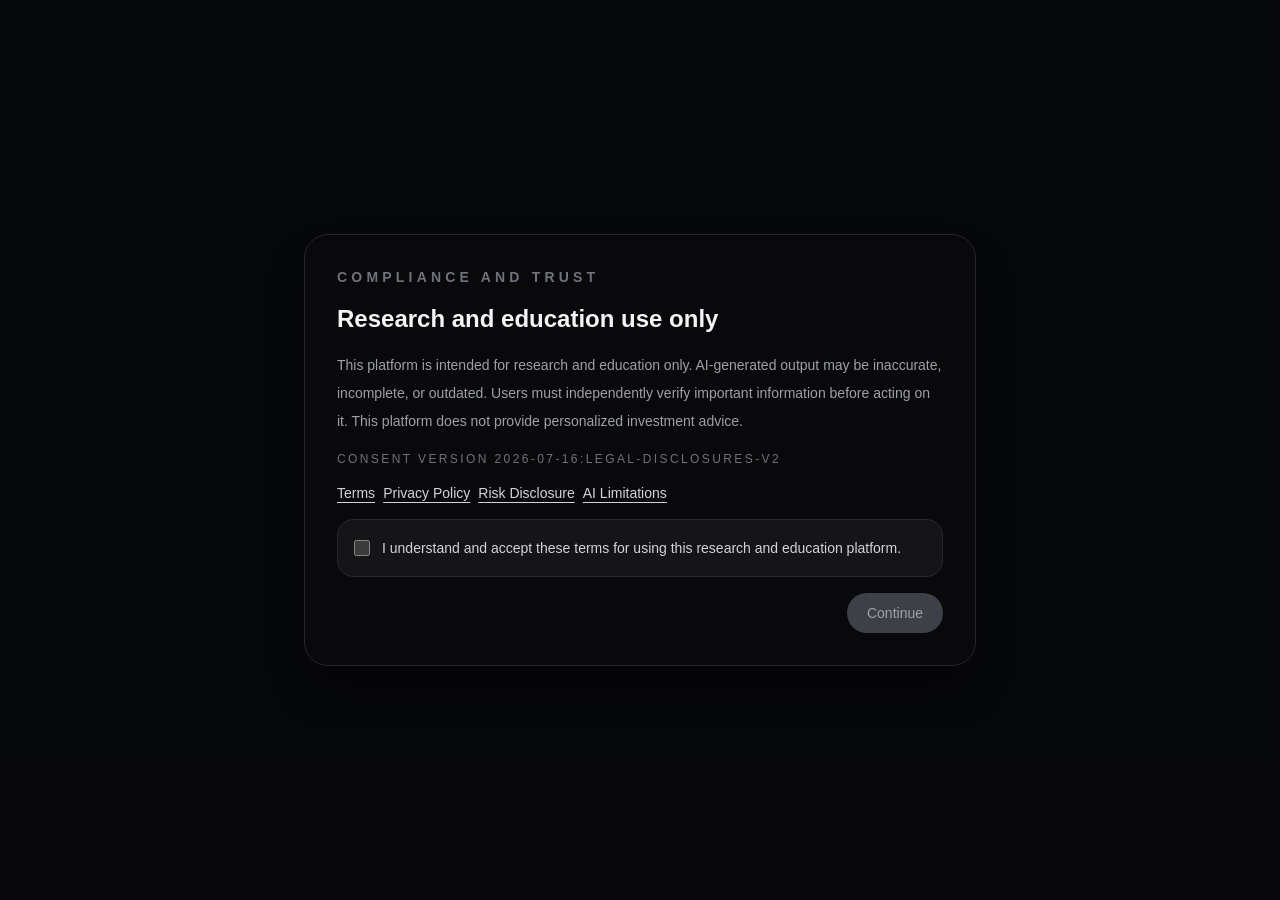
Test: Consent modal › requires checkbox acceptance before continuing
Expected: the button "Continue" is disabled, x1=847 y1=593 x2=943 y2=633
Click the checkbox at (362, 548), box x1=354 y1=540 x2=370 y2=556
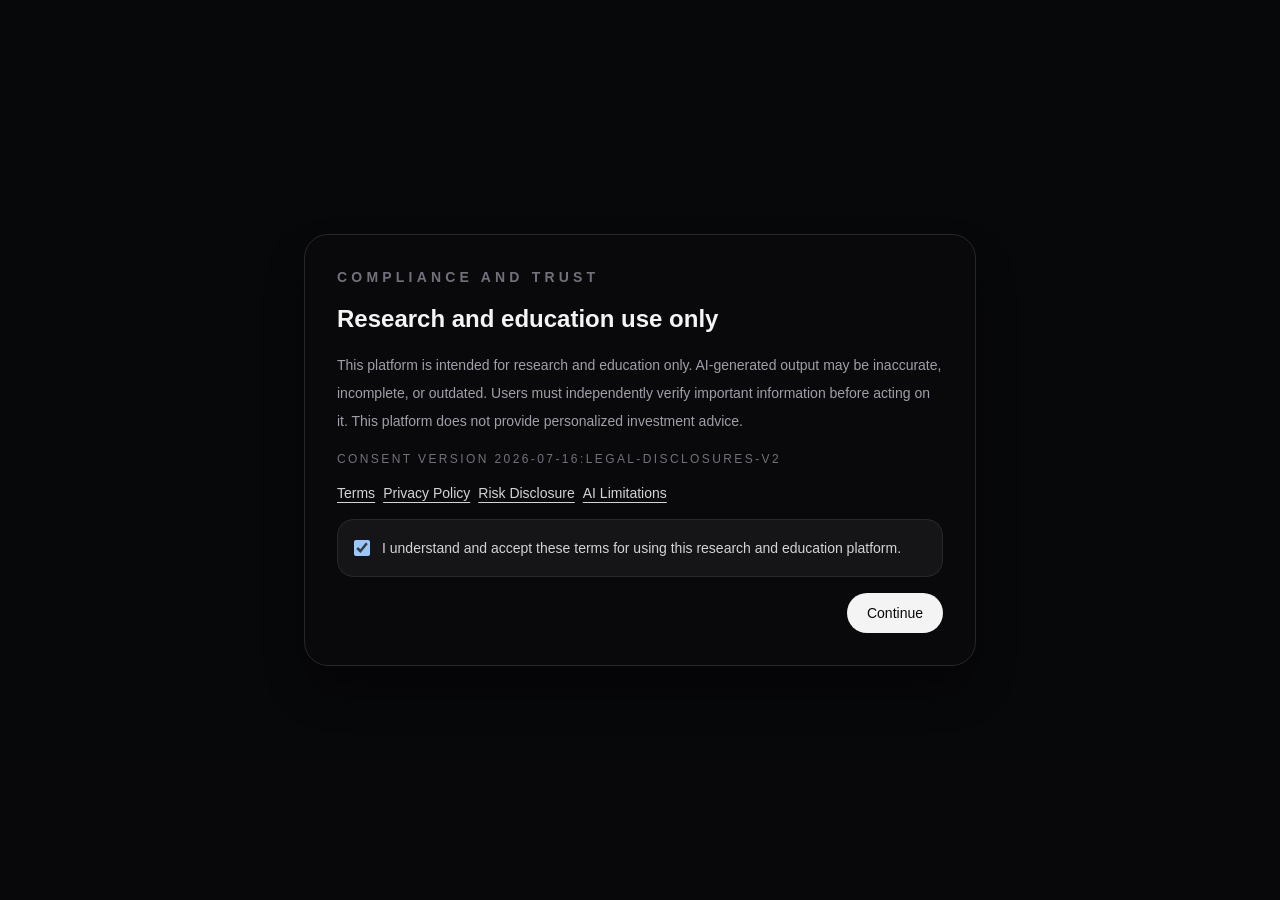
Now the button "Continue" is enabled, box x1=847 y1=593 x2=943 y2=633
